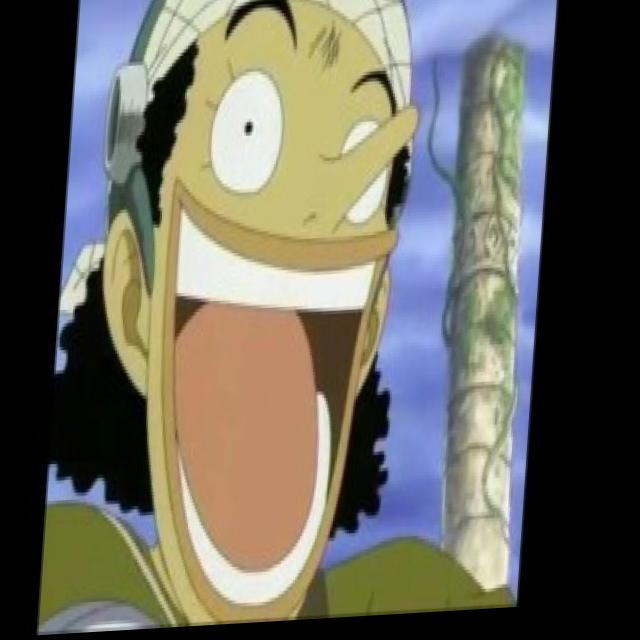Usopp: (76, 0, 436, 629)
